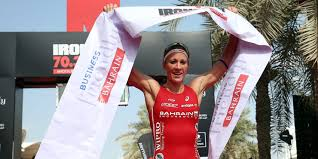middle_eastern_Female: (162, 46, 192, 83)
